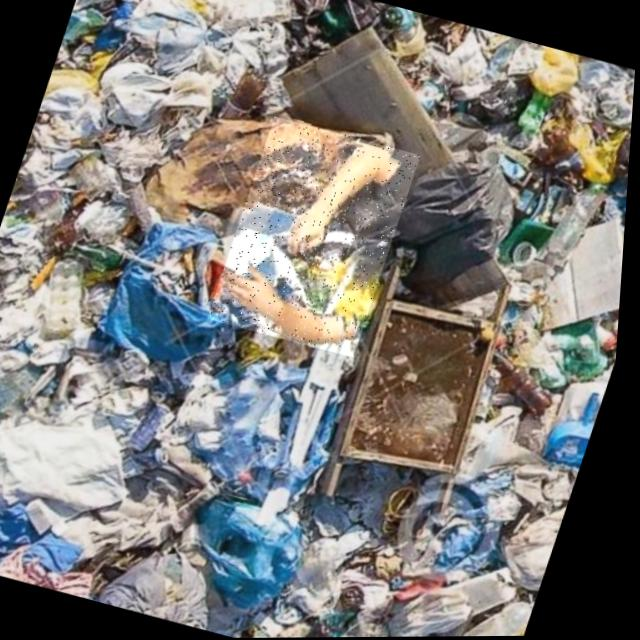Person in Rubble: (208, 115, 424, 359)
